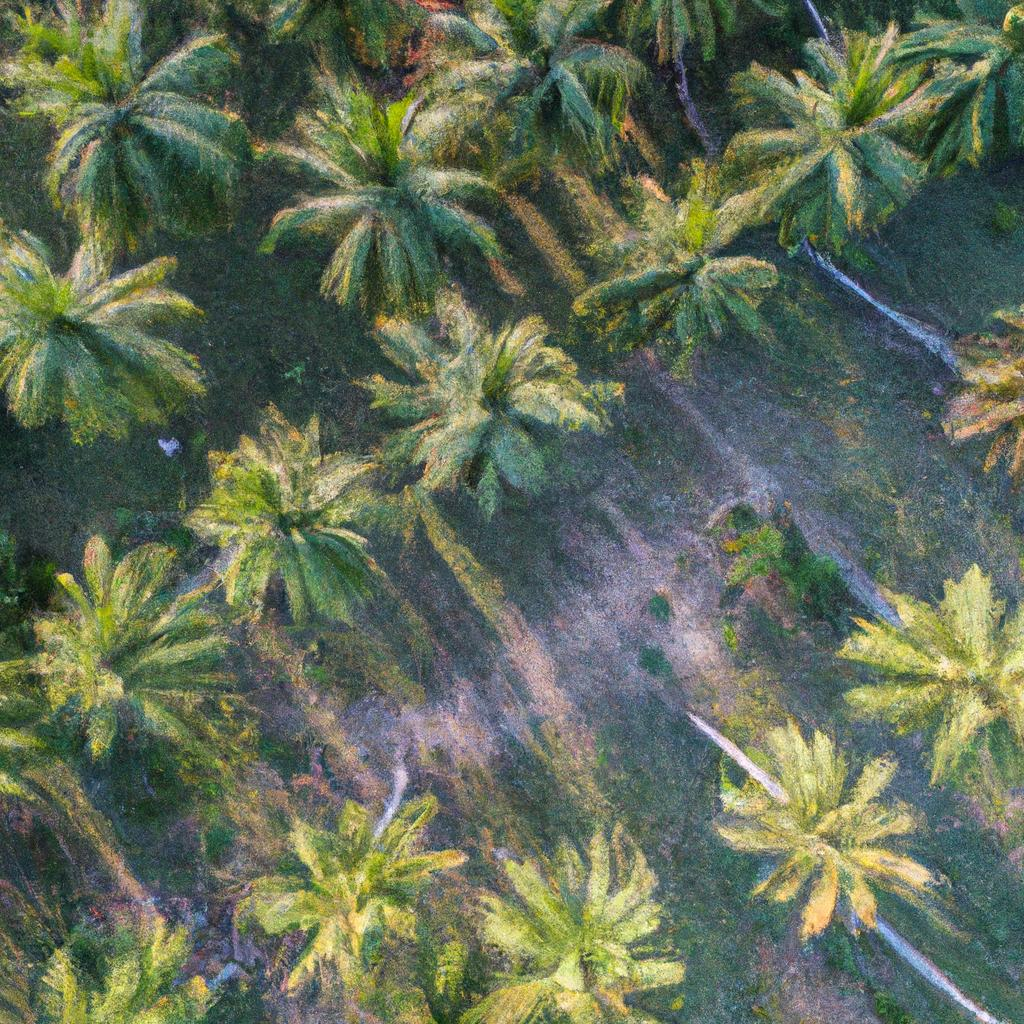coconut_tree: (265, 53, 517, 342), (703, 15, 963, 285), (685, 699, 952, 953), (0, 4, 265, 242), (368, 296, 635, 520), (0, 248, 255, 480), (449, 820, 738, 1023), (5, 513, 217, 785), (560, 128, 773, 369), (238, 767, 449, 981), (190, 413, 387, 628)
